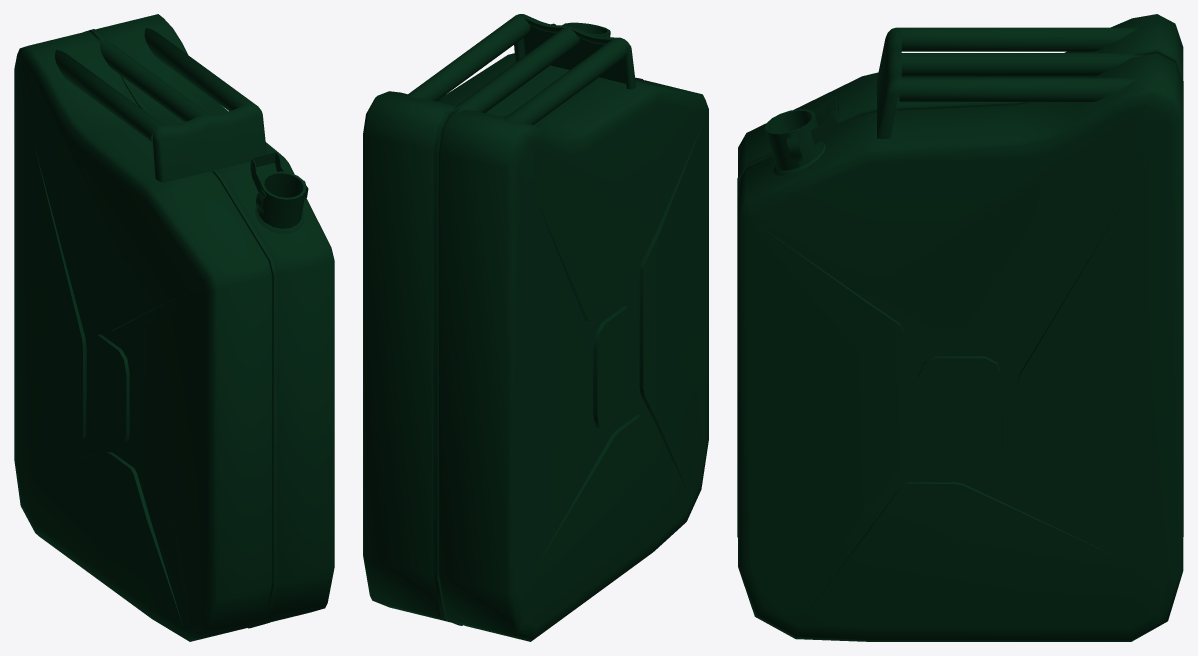
File: Casoline.fbx
3 views of the same model, side by side, from view 1: azimuth 30°, elevation 25°; view 2: azimuth 150°, elevation 25°; view 3: azimuth 270°, elevation 25° (orthographic). The views are drawn at different scales.
Visible parts, largest first — view 1: Cube.002; view 2: Cube.002; view 3: Cube.002.
Boxes of the visible parts, left/top/right/bottom form: Cube.002: left=14, top=14, right=334, bottom=641; Cube.002: left=363, top=14, right=708, bottom=641; Cube.002: left=737, top=14, right=1183, bottom=641.
Size of the model in its own units: 113 by 370 by 269.
